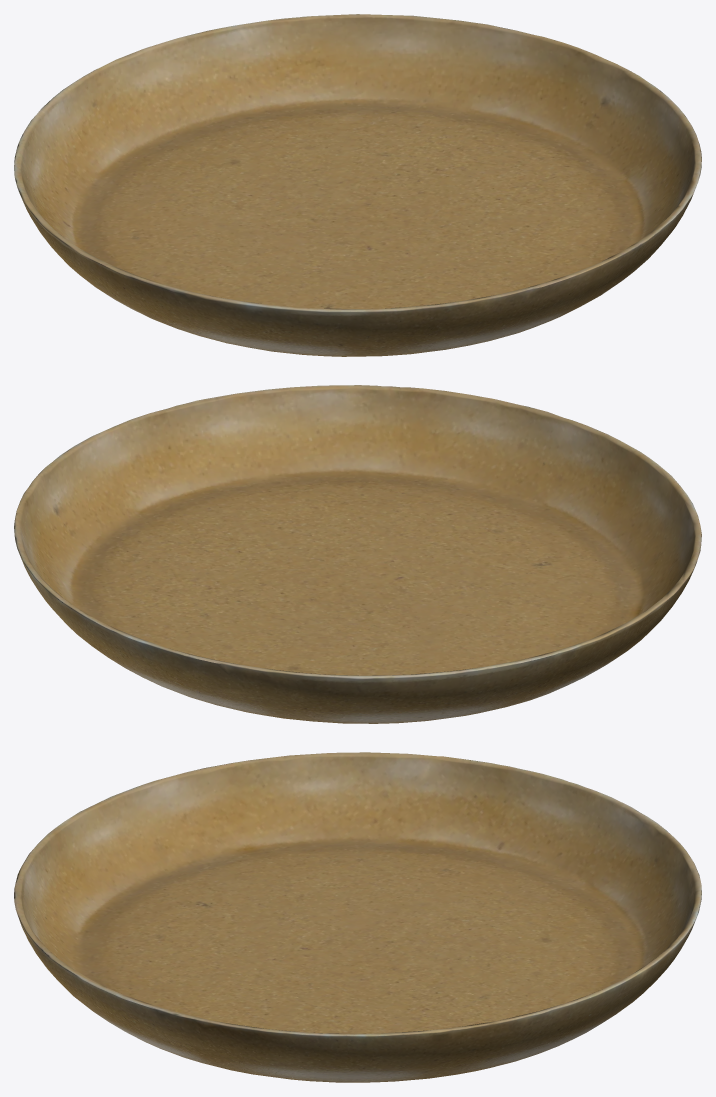
Rendered from Ecoforms_Plant_Container_S24NATURAL.glb.
3 views of the same model, one above another, from view 1: azimuth 30°, elevation 25°; view 2: azimuth 150°, elevation 25°; view 3: azimuth 270°, elevation 25° (orthographic).
Parts seen in each view (by area): view 1: Ecoforms_Plant_Container_S24NATURAL; view 2: Ecoforms_Plant_Container_S24NATURAL; view 3: Ecoforms_Plant_Container_S24NATURAL.
Part boxes in pixels (x1,y1,x2,y2): Ecoforms_Plant_Container_S24NATURAL: (14, 14, 701, 356); Ecoforms_Plant_Container_S24NATURAL: (14, 385, 701, 723); Ecoforms_Plant_Container_S24NATURAL: (14, 752, 701, 1082).
Size of the model in its own units: 0.2413 by 0.0332 by 0.2408.
Materials: 1 (1 with a texture image).
